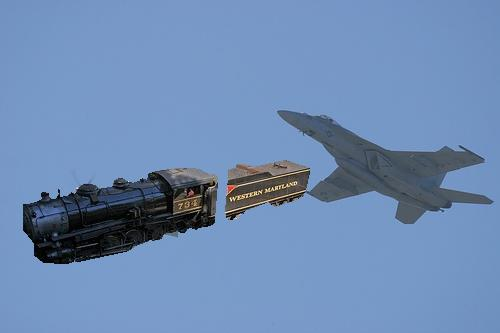tampered: (24, 161, 310, 264)
